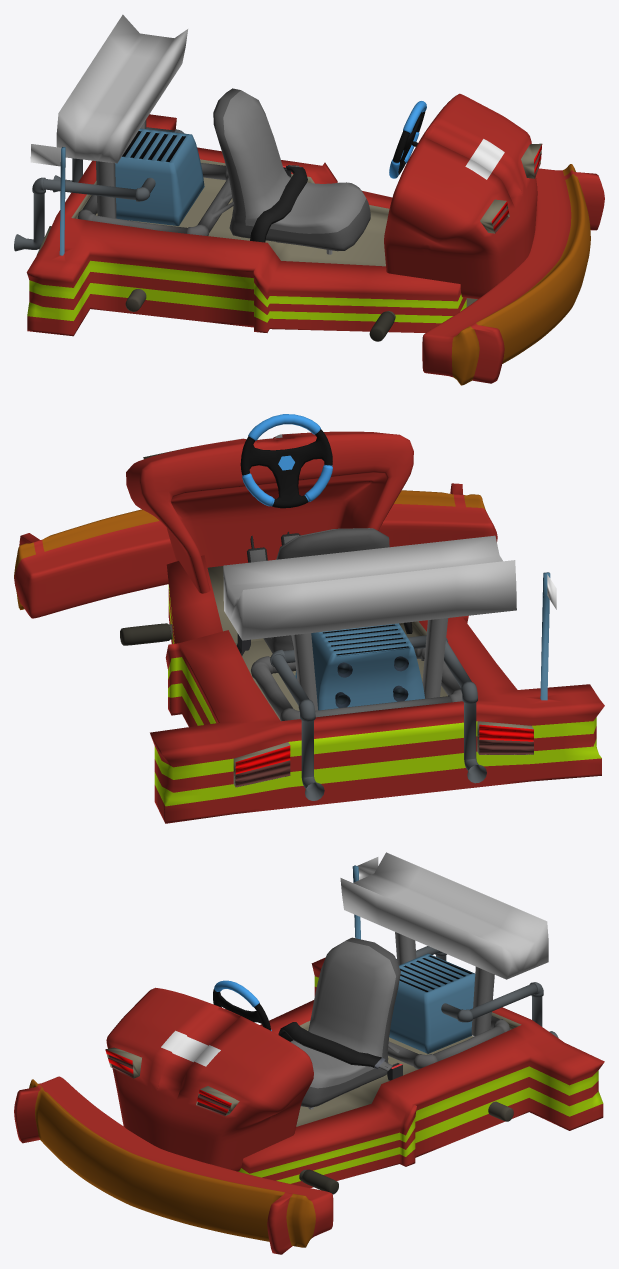
File: Kart Body.fbx
3 renders of one model, top to bottom at view 1: azimuth 30°, elevation 25°; view 2: azimuth 150°, elevation 25°; view 3: azimuth 270°, elevation 25°, orthographic. The views are drawn at different scales.
Parts seen in each view (by area): view 1: Kart; view 2: Kart; view 3: Kart.
Part boxes in pixels (x1,y1,x2,y2): Kart: (14,14,604,385); Kart: (14,414,604,823); Kart: (14,852,604,1254).
Bounding box in the file's own units: 426 × 144 × 425.
